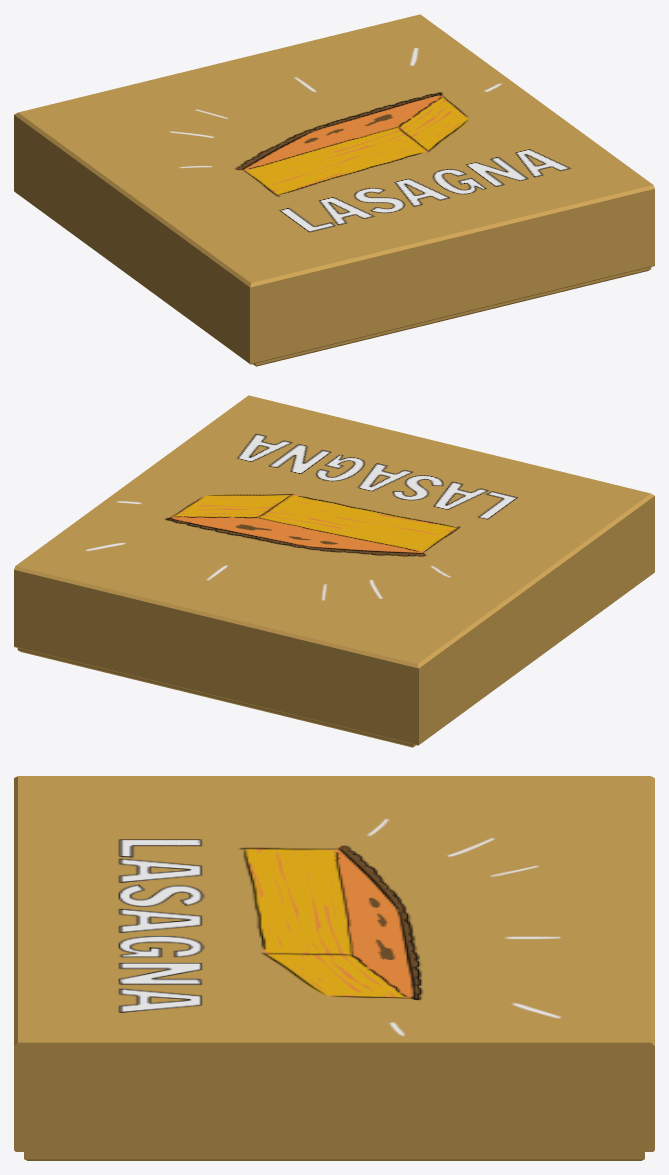
Rendered from PieBox.obj.
3 views of the same model, one above another, from view 1: azimuth 30°, elevation 25°; view 2: azimuth 150°, elevation 25°; view 3: azimuth 270°, elevation 25° (orthographic). The views are drawn at different scales.
Bounding box in the file's own units: 3.75 × 0.7808 × 3.79.
1 material, 1 textured.
